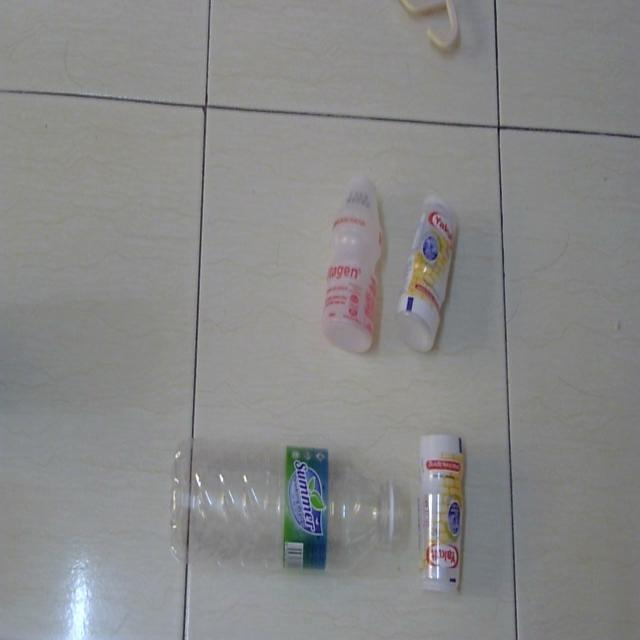plastic_laydown_0rotation: (169, 434, 412, 596)
plastic_laydown_90rotation: (325, 168, 383, 358), (402, 185, 458, 360), (416, 430, 473, 598)
